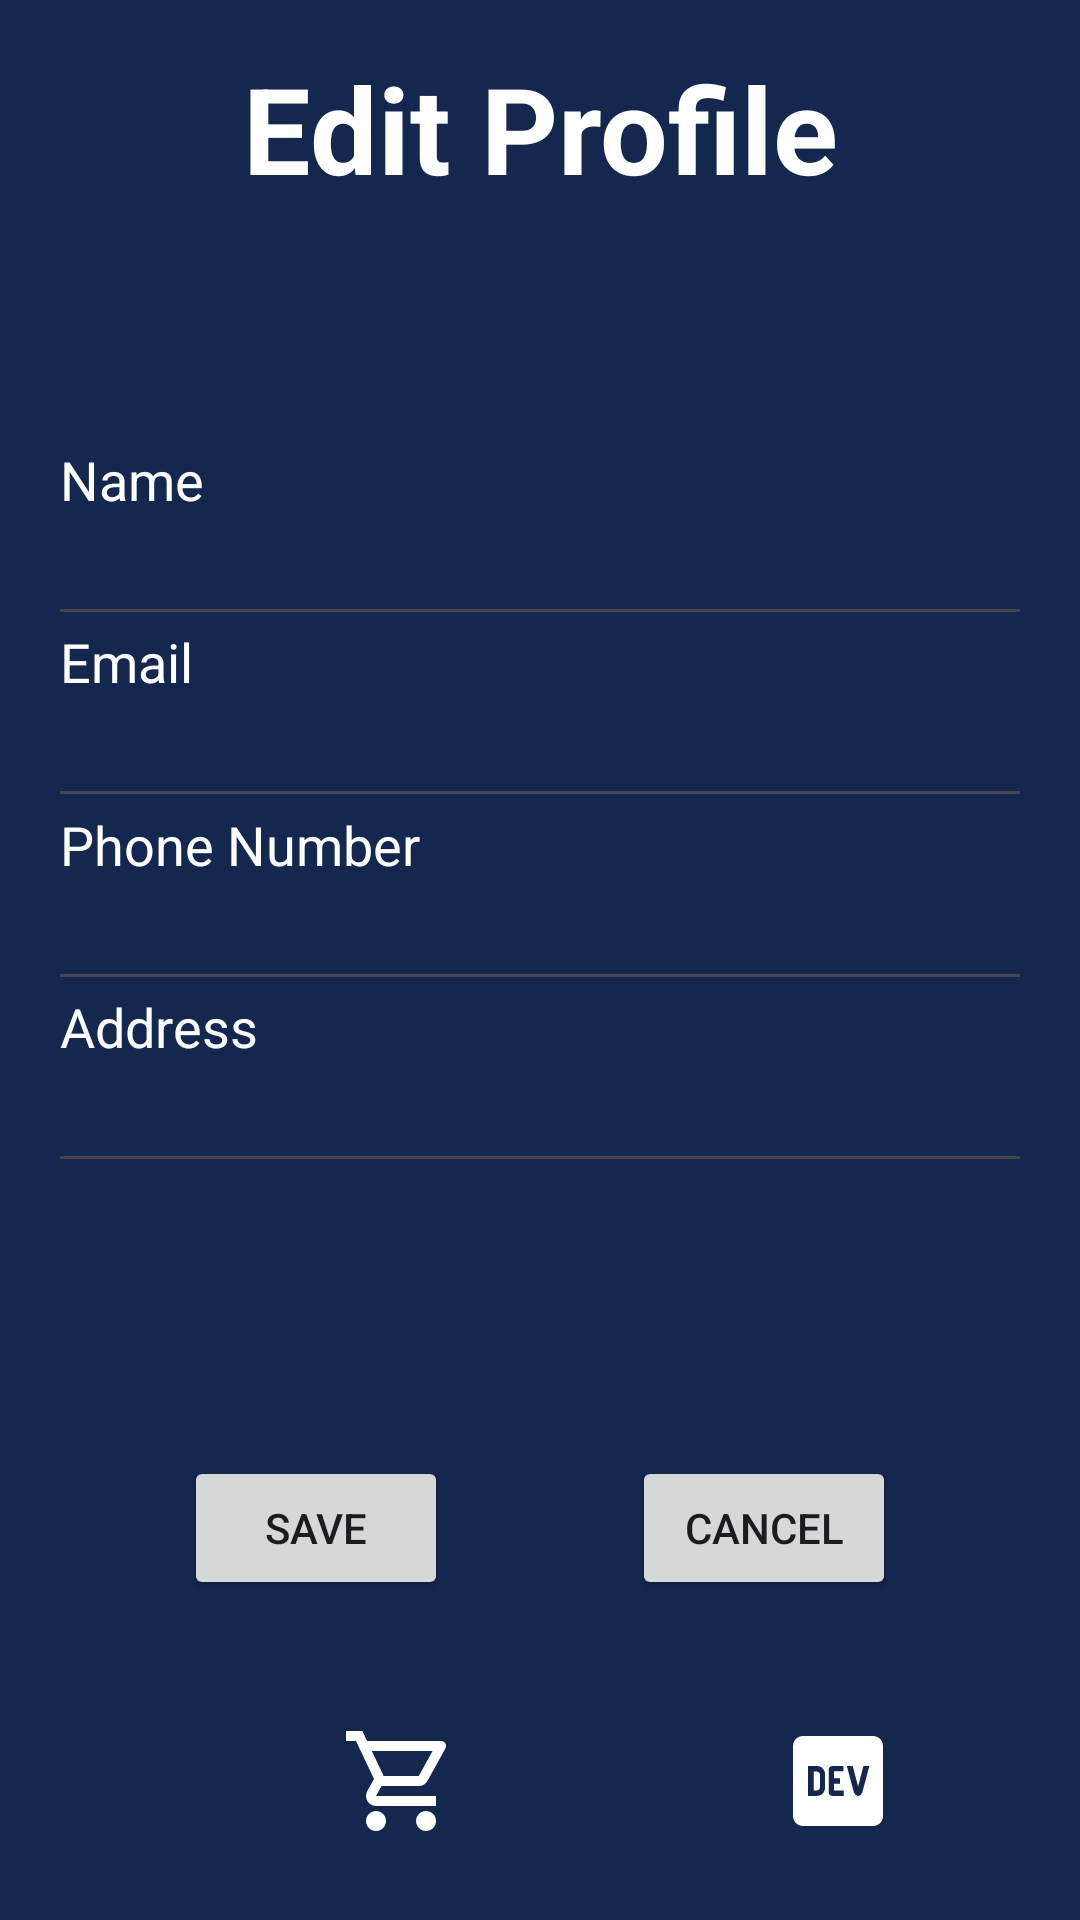

Named icons in this screenshot (1080px x 1920px) and their centers, (x=x, y=y):
shopping cart: (x=396, y=1781)
